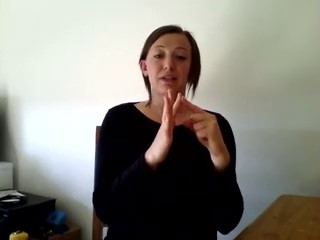E: (142, 84, 234, 176)
